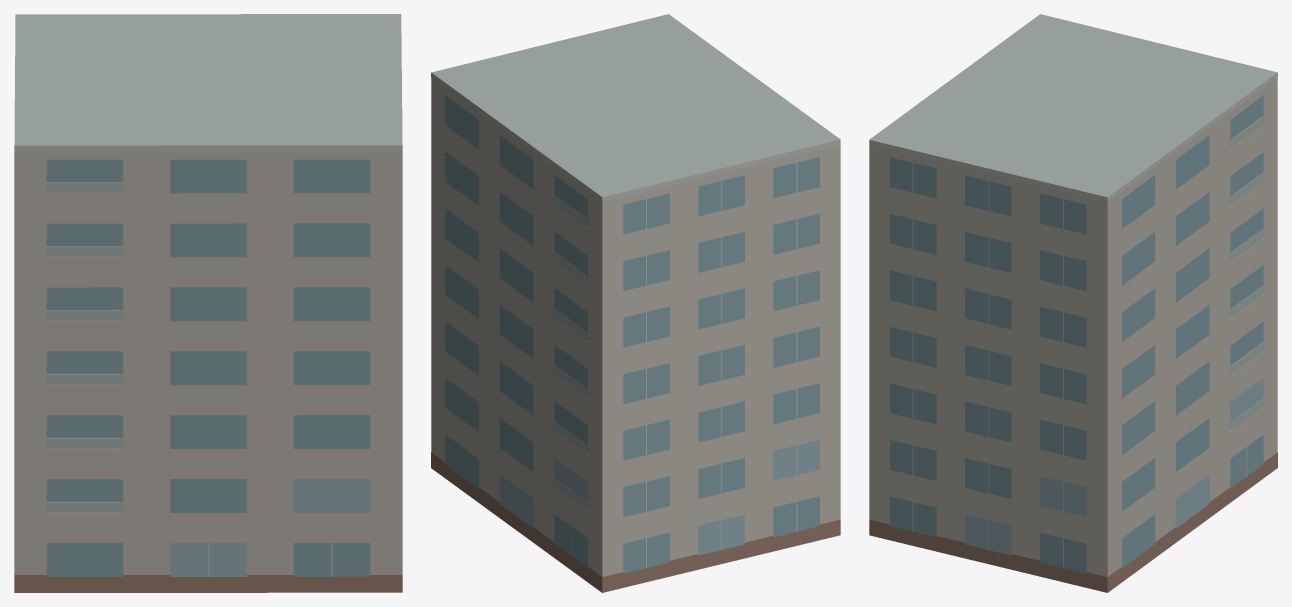
Rendered from survey-upis-32739139.glb.
The picture shows the model from 3 angles, left to right: view 1: azimuth 30°, elevation 25°; view 2: azimuth 150°, elevation 25°; view 3: azimuth 270°, elevation 25°; orthographic projection. The views are drawn at different scales.
Parts seen in each view (by area): view 1: survey-upis-32739139.tmp; view 2: survey-upis-32739139.tmp; view 3: survey-upis-32739139.tmp.
Boxes of the visible parts, bbox=[...] form: survey-upis-32739139.tmp: bbox=[14, 14, 402, 592]; survey-upis-32739139.tmp: bbox=[431, 14, 840, 592]; survey-upis-32739139.tmp: bbox=[869, 14, 1277, 592].
Bounding box in the file's own units: 19.99 × 20.1 × 18.82.
